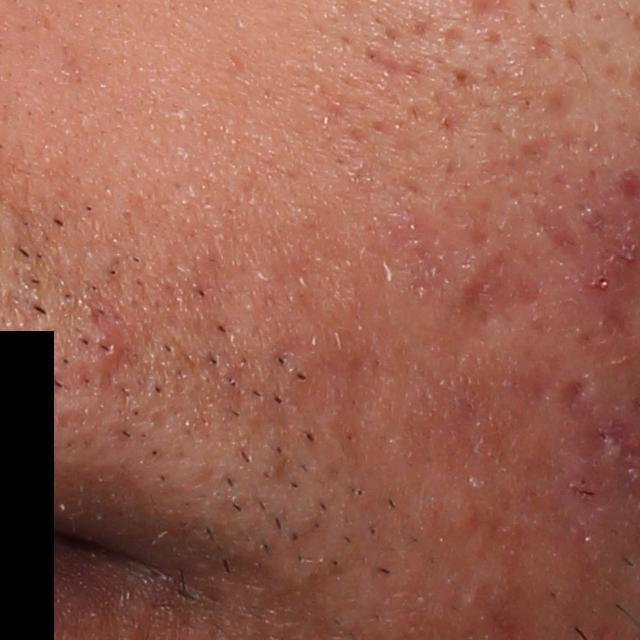atrophic_scar: (465, 259, 523, 326), (529, 198, 590, 258), (364, 43, 432, 83), (549, 372, 584, 411)
